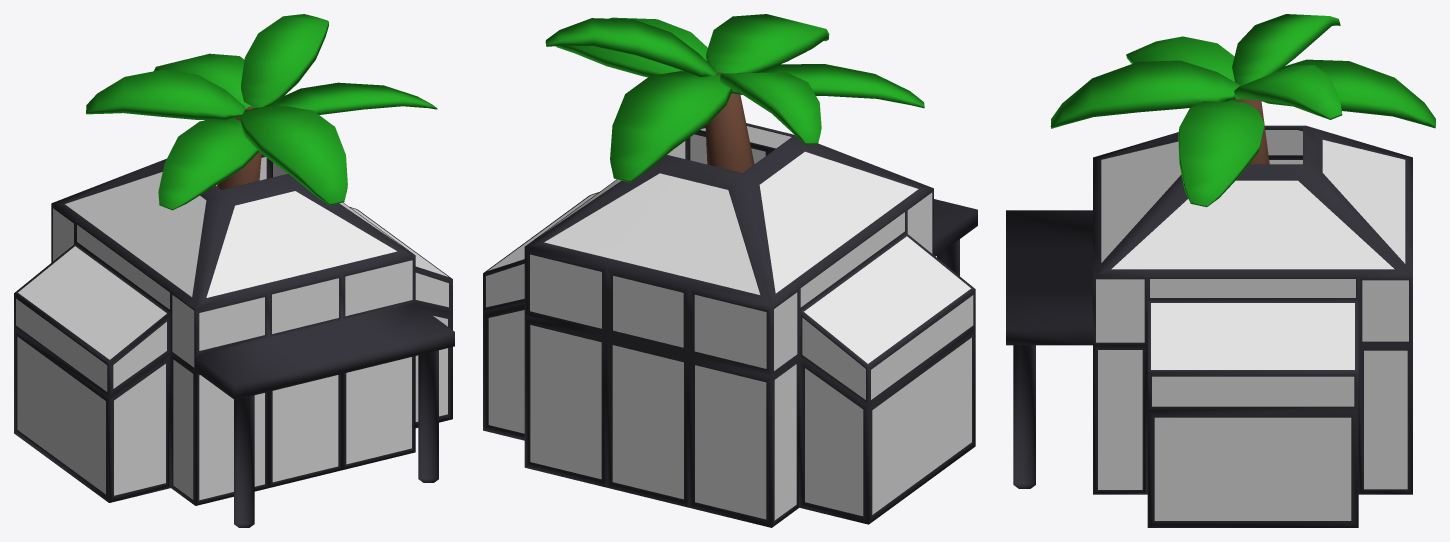
The model's file is Tuincentrum.fbx.
The picture shows the model from 3 angles, left to right: view 1: azimuth 30°, elevation 25°; view 2: azimuth 150°, elevation 25°; view 3: azimuth 270°, elevation 25°; orthographic projection. The views are drawn at different scales.
Visible parts, largest first — view 1: tuincentrum; view 2: tuincentrum; view 3: tuincentrum.
Part boxes in pixels (<box>): tuincentrum: <box>14,14,454,527</box>; tuincentrum: <box>483,14,977,527</box>; tuincentrum: <box>1006,14,1435,527</box>.
Bounding box in the file's own units: 359 × 357 × 345.
